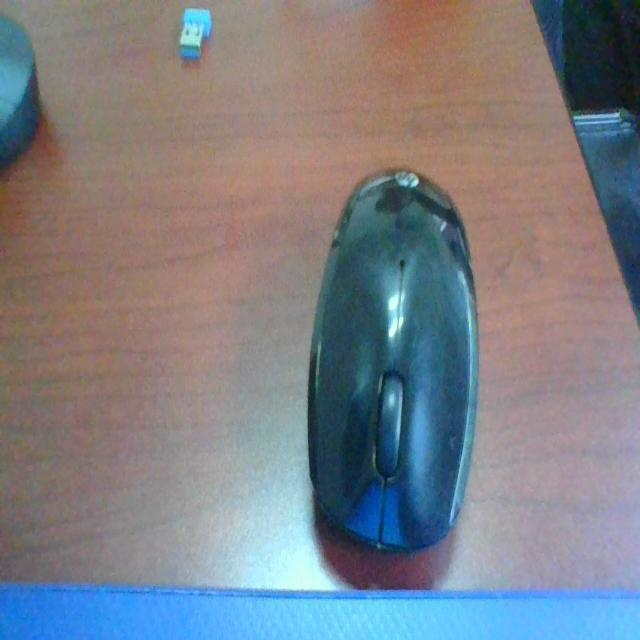Mouse: (315, 140, 502, 590)
